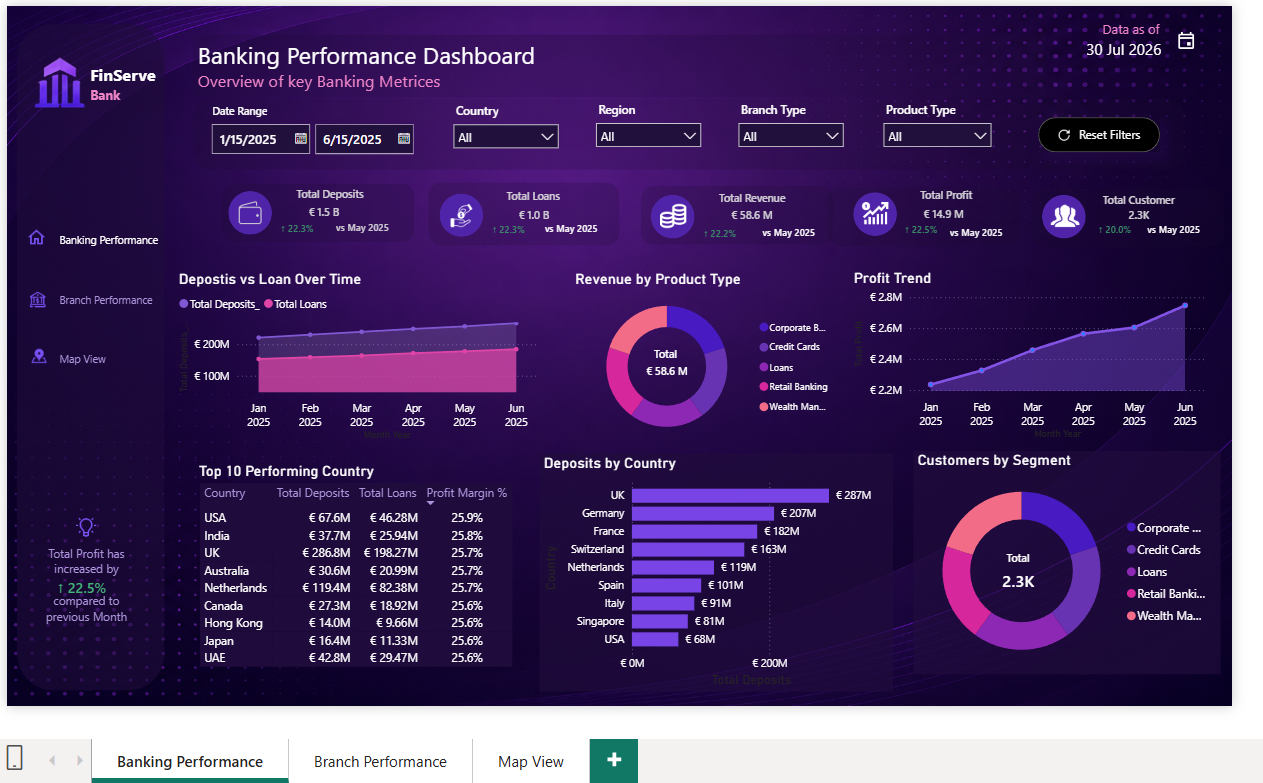

The dashboard page shown, as its layout file describes it:
{"tool":"powerbi","page":{"name":"Banking Performance","canvas":[1400,800],"ordinal":0},"visuals":[{"type":"shape","box":[11.2,20,168.8,762.5],"z":0},{"type":"actionButton","title":"Reset Filters","box":[1177.3,127.4,139,40],"z":0,"group":"g1"},{"type":"textbox","box":[1219.1,132.9,110,28.1],"z":1000,"group":"g1"},{"type":"shape","box":[253.5,211.9,50,50],"z":1000},{"type":"image","box":[1194.7,140.4,24.4,15],"z":2000,"group":"g1"},{"type":"shape","box":[1183.5,215.2,50,50],"z":2000},{"type":"textbox","box":[213.3,33.3,973.3,71.7],"z":3000},{"type":"shape","box":[966.7,213.4,50,50],"z":4000},{"type":"image","box":[261.9,221.2,32.9,30.6],"z":5000},{"type":"textbox","box":[1247,207,104.1,32.4],"z":6000},{"type":"shape","box":[494.7,214,50,49.6],"z":7000},{"type":"cardVisual","fields":{"Data":["Banking_Data.Total Customers Display"]},"box":[1253,212,124.1,53.5],"z":8000},{"type":"textbox","box":[1038.6,201.6,104.1,32.4],"z":9000},{"type":"cardVisual","fields":{"Data":["Banking_Data.Total Revenue Display"]},"box":[700.8,390,124.2,53.3],"z":10000},{"type":"cardVisual","fields":{"Data":["Banking_Data.Customer Growth Display"]},"box":[1219,229,105.3,52.4],"z":11000},{"type":"image","box":[1335.5,20,23.6,40.9],"z":12000},{"type":"cardVisual","fields":{"Data":["Banking_Data.Date Title"]},"box":[1227.3,0.9,132.2,47.8],"z":13000},{"type":"textbox","box":[325.5,200,104.1,32.4],"z":14000},{"type":"cardVisual","fields":{"Data":["Banking_Data.Current Date"]},"box":[1208.2,24.5,144.5,46.4],"z":15000},{"type":"slicer","fields":{"Values":["Banking_Data.Country"]},"box":[499.3,106.7,140,81.3],"z":15000,"group":"g2"},{"type":"slicer","fields":{"Values":["Banking_Data.Region"]},"box":[662,105.4,140,77.3],"z":16000,"group":"g2"},{"type":"cardVisual","fields":{"Data":["Banking_Data.Total Profit Display"]},"box":[1018.6,210.4,124.1,53.5],"z":16000},{"type":"textbox","box":[90.6,61.2,90,57.1],"z":17000},{"type":"slicer","fields":{"Values":["Banking_Data.Branch Type"]},"box":[825.3,105.4,140,77.3],"z":17000,"group":"g2"},{"type":"slicer","fields":{"Values":["Banking_Data.Product Type"]},"box":[990.6,104.7,143.3,77.8],"z":18000,"group":"g2"},{"type":"cardVisual","fields":{"Data":["Banking_Data.Total_Deposits_Display"]},"box":[315.7,208.9,124.1,53.5],"z":18000},{"type":"image","box":[29.4,55.9,61.2,64.7],"z":19000},{"type":"group","id":"g1","title":"Group 1","box":[1177.3,127.4,150.7,40],"z":20000,"group":"g2"},{"type":"textbox","box":[565.7,202.2,104.1,32.1],"z":20000},{"type":"shape","box":[213.3,105.3,1132.7,81.3],"z":21000},{"type":"cardVisual","fields":{"Data":["Banking_Data.Profit Growth Display"]},"box":[997.4,229.2,105.3,52.4],"z":22000},{"type":"image","box":[77.7,575.4,26.2,40.8],"z":22000,"group":"g3"},{"type":"shape","box":[1172,209,220,67.1],"z":23000},{"type":"cardVisual","fields":{"Data":["Banking_Data.Profit Growth Display"]},"box":[29.2,629.2,130,66.2],"z":23000,"group":"g3"},{"type":"slicer","fields":{"Values":["Banking_Data.Date"]},"box":[221.3,106.7,264.7,80.7],"z":24000},{"type":"textbox","box":[37,611,110,60],"z":24000,"group":"g3"},{"type":"cardVisual","fields":{"Data":["Banking_Data.Growth_Display_Dynamic"]},"box":[284.3,228.9,112,48],"z":25000},{"type":"textbox","box":[36.9,665.4,110,60],"z":25000,"group":"g3"},{"type":"pageNavigator","box":[60,238.5,150,196.9],"z":26000},{"type":"cardVisual","fields":{"Data":["Banking_Data.Comparison Text Dynamic"]},"box":[347,225.6,138.7,52],"z":27000},{"type":"image","box":[22.3,246.9,21.5,33.8],"z":28000},{"type":"shape","box":[736.4,216.1,50,50],"z":29000},{"type":"image","box":[24.6,319.2,21.5,33.8],"z":30000},{"type":"image","box":[26.9,383.8,19.2,32.3],"z":31000},{"type":"cardVisual","fields":{"Data":["Banking_Data.Total Loans Display"]},"box":[555.7,210.9,124,53.3],"z":32000},{"type":"areaChart","title":"Depostis vs Loan Over Time","fields":{"Y":["Banking_Data.Total Deposits_","Banking_Data.Total Loans"],"Category":["Banking_Data.Month Year"]},"box":[190.8,301.7,423.3,200],"z":33000},{"type":"shape","box":[939,207,220,67.1],"z":34000},{"type":"donutChart","title":"Revenue by Product Type","fields":{"Category":["Banking_Data.Product Type"],"Y":["Sum(Banking_Data.Total Revenue)"]},"box":[644,301,311,202],"z":35000},{"type":"tableEx","title":"Top 10 Performing Country","fields":{"Values":["Banking_Data.Country","Banking_Data.Total Deposits","Banking_Data.Total Loans","Banking_Data.Profit_Margin %"]},"box":[213.8,521.2,382,254],"z":36000},{"type":"areaChart","title":"Profit Trend","fields":{"Y":["Banking_Data.Total Profit"],"Category":["Banking_Data.Month Year"]},"box":[963.3,300,415,200],"z":37000},{"type":"cardVisual","fields":{"Data":["Banking_Data.Loan Growth Display"]},"box":[525.7,228.9,105.3,51.9],"z":38000},{"type":"textbox","box":[734,383,43.3,32.5],"z":39000},{"type":"barChart","title":"Deposits by Country","fields":{"Category":["Banking_Data.Country"],"Y":["Banking_Data.Total Deposits"]},"box":[609,512,404,272],"z":40000},{"type":"donutChart","title":"Customers by Segment","fields":{"Category":["Banking_Data.Product Type"],"Y":["Banking_Data.Total Customers"]},"box":[1035.8,509.2,350.8,255],"z":41000},{"type":"cardVisual","fields":{"Data":["Banking_Data.Total Customers Display"]},"box":[1109,629,125,53.8],"z":42000},{"type":"textbox","box":[1137,616,43.3,32.5],"z":43000},{"type":"image","box":[1192.3,222.3,33,35],"z":44000},{"type":"shape","box":[245,202.2,220,67.1],"z":45000},{"type":"cardVisual","fields":{"Data":["Banking_Data.Comparison Text Dynamic"]},"box":[1049,231,138.7,52],"z":46000},{"type":"cardVisual","fields":{"Data":["Banking_Data.Comparison Text Dynamic"]},"box":[1274,228,122,52],"z":47000},{"type":"group","id":"g2","title":"Group 4","box":[499.3,104.7,828.7,83.3],"z":48000},{"type":"group","id":"g3","title":"Group 5","box":[29.2,575.4,130,150],"z":49000},{"type":"shape","box":[481.2,201.5,218.8,72.5],"z":50000},{"type":"textbox","box":[808.3,204.2,104.1,32.4],"z":51000},{"type":"cardVisual","fields":{"Data":["Banking_Data.Total Revenue Display"]},"box":[798,211.2,124.1,53.5],"z":52000},{"type":"cardVisual","fields":{"Data":["Banking_Data.Revenue Growth Display"]},"box":[767,232.2,109,51],"z":53000},{"type":"image","box":[974.2,220.2,35,33.3],"z":54000},{"type":"shape","box":[724,205.2,220,67.1],"z":55000},{"type":"image","box":[741,219.9,40,40.7],"z":56000},{"type":"image","box":[498.3,224.1,42,30.4],"z":57000},{"type":"cardVisual","fields":{"Data":["Banking_Data.Comparison Text Dynamic"]},"box":[585.7,227.6,138.7,52],"z":58000},{"type":"cardVisual","fields":{"Data":["Banking_Data.Comparison Text Dynamic"]},"box":[833.7,231.6,138.7,52],"z":59000}]}

Visuals, with their boxes on the page's 1400x800 design canvas (x1, y1, x2, y2). These are canvas units, not pixel positions in the 1263x783 screenshot, which may show the page scaled, cropped or inside an application window:
shape: bbox(11, 20, 180, 782)
"Reset Filters" actionButton: bbox(1177, 127, 1316, 167)
textbox: bbox(1219, 133, 1329, 161)
shape: bbox(254, 212, 304, 262)
image: bbox(1195, 140, 1219, 155)
shape: bbox(1184, 215, 1234, 265)
textbox: bbox(213, 33, 1187, 105)
shape: bbox(967, 213, 1017, 263)
image: bbox(262, 221, 295, 252)
textbox: bbox(1247, 207, 1351, 239)
shape: bbox(495, 214, 545, 264)
cardVisual - Banking_Data.Total Customers Display: bbox(1253, 212, 1377, 266)
textbox: bbox(1039, 202, 1143, 234)
cardVisual - Banking_Data.Total Revenue Display: bbox(701, 390, 825, 443)
cardVisual - Banking_Data.Customer Growth Display: bbox(1219, 229, 1324, 281)
image: bbox(1336, 20, 1359, 61)
cardVisual - Banking_Data.Date Title: bbox(1227, 1, 1360, 49)
textbox: bbox(326, 200, 430, 232)
cardVisual - Banking_Data.Current Date: bbox(1208, 24, 1353, 71)
slicer - Banking_Data.Country: bbox(499, 107, 639, 188)
slicer - Banking_Data.Region: bbox(662, 105, 802, 183)
cardVisual - Banking_Data.Total Profit Display: bbox(1019, 210, 1143, 264)
textbox: bbox(91, 61, 181, 118)
slicer - Banking_Data.Branch Type: bbox(825, 105, 965, 183)
slicer - Banking_Data.Product Type: bbox(991, 105, 1134, 182)
cardVisual - Banking_Data.Total_Deposits_Display: bbox(316, 209, 440, 262)
image: bbox(29, 56, 91, 121)
"Group 1" group: bbox(1177, 127, 1328, 167)
textbox: bbox(566, 202, 670, 234)
shape: bbox(213, 105, 1346, 187)
cardVisual - Banking_Data.Profit Growth Display: bbox(997, 229, 1103, 282)
image: bbox(78, 575, 104, 616)
shape: bbox(1172, 209, 1392, 276)
cardVisual - Banking_Data.Profit Growth Display: bbox(29, 629, 159, 695)
slicer - Banking_Data.Date: bbox(221, 107, 486, 187)
textbox: bbox(37, 611, 147, 671)
cardVisual - Banking_Data.Growth_Display_Dynamic: bbox(284, 229, 396, 277)
textbox: bbox(37, 665, 147, 725)
pageNavigator: bbox(60, 238, 210, 435)
cardVisual - Banking_Data.Comparison Text Dynamic: bbox(347, 226, 486, 278)
image: bbox(22, 247, 44, 281)
shape: bbox(736, 216, 786, 266)
image: bbox(25, 319, 46, 353)
image: bbox(27, 384, 46, 416)
cardVisual - Banking_Data.Total Loans Display: bbox(556, 211, 680, 264)
"Depostis vs Loan Over Time" areaChart: bbox(191, 302, 614, 502)
shape: bbox(939, 207, 1159, 274)
"Revenue by Product Type" donutChart: bbox(644, 301, 955, 503)
"Top 10 Performing Country" tableEx: bbox(214, 521, 596, 775)
"Profit Trend" areaChart: bbox(963, 300, 1378, 500)
cardVisual - Banking_Data.Loan Growth Display: bbox(526, 229, 631, 281)
textbox: bbox(734, 383, 777, 416)
"Deposits by Country" barChart: bbox(609, 512, 1013, 784)
"Customers by Segment" donutChart: bbox(1036, 509, 1387, 764)
cardVisual - Banking_Data.Total Customers Display: bbox(1109, 629, 1234, 683)
textbox: bbox(1137, 616, 1180, 648)
image: bbox(1192, 222, 1225, 257)
shape: bbox(245, 202, 465, 269)
cardVisual - Banking_Data.Comparison Text Dynamic: bbox(1049, 231, 1188, 283)
cardVisual - Banking_Data.Comparison Text Dynamic: bbox(1274, 228, 1396, 280)
"Group 4" group: bbox(499, 105, 1328, 188)
"Group 5" group: bbox(29, 575, 159, 725)
shape: bbox(481, 202, 700, 274)
textbox: bbox(808, 204, 912, 237)
cardVisual - Banking_Data.Total Revenue Display: bbox(798, 211, 922, 265)
cardVisual - Banking_Data.Revenue Growth Display: bbox(767, 232, 876, 283)
image: bbox(974, 220, 1009, 254)
shape: bbox(724, 205, 944, 272)
image: bbox(741, 220, 781, 261)
image: bbox(498, 224, 540, 254)
cardVisual - Banking_Data.Comparison Text Dynamic: bbox(586, 228, 724, 280)
cardVisual - Banking_Data.Comparison Text Dynamic: bbox(834, 232, 972, 284)
